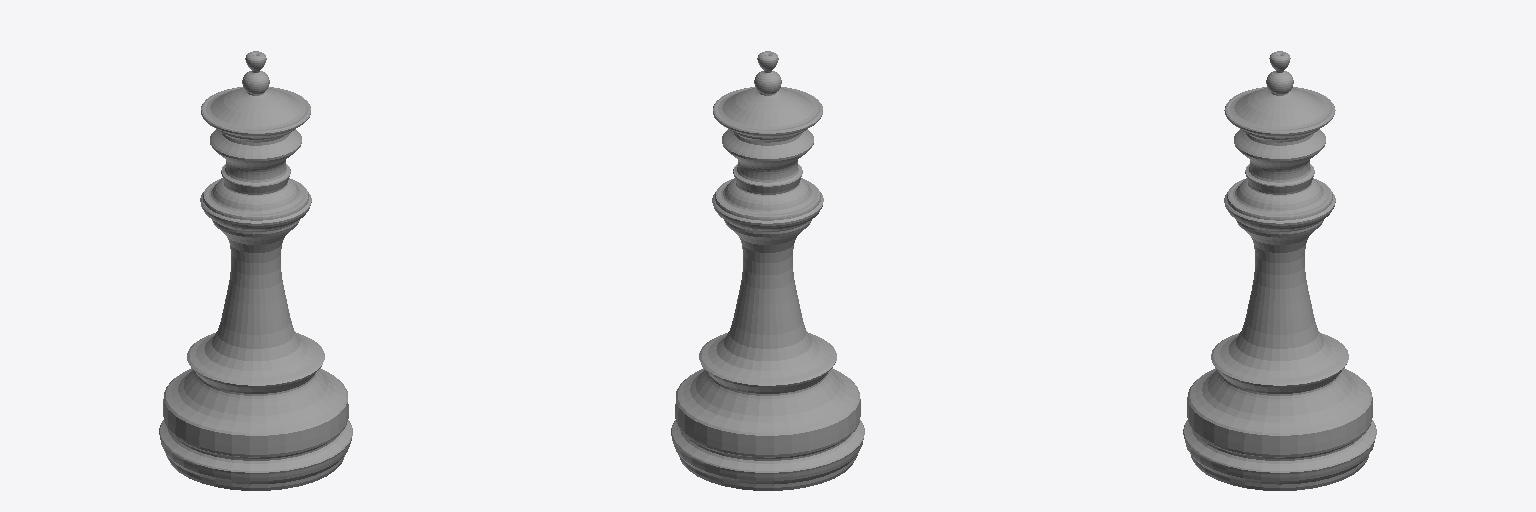
File: Queen.obj
3 views of the same model, side by side, from view 1: azimuth 30°, elevation 25°; view 2: azimuth 150°, elevation 25°; view 3: azimuth 270°, elevation 25° (orthographic).
Visible parts, largest first — view 1: Queen_Plane.003; view 2: Queen_Plane.003; view 3: Queen_Plane.003.
Boxes of the visible parts, x1,y1,x2,y2 form: Queen_Plane.003: [159, 51, 352, 490]; Queen_Plane.003: [671, 51, 864, 490]; Queen_Plane.003: [1183, 51, 1376, 490].
Bounding box in the file's own units: 3.55 × 8.15 × 3.55.